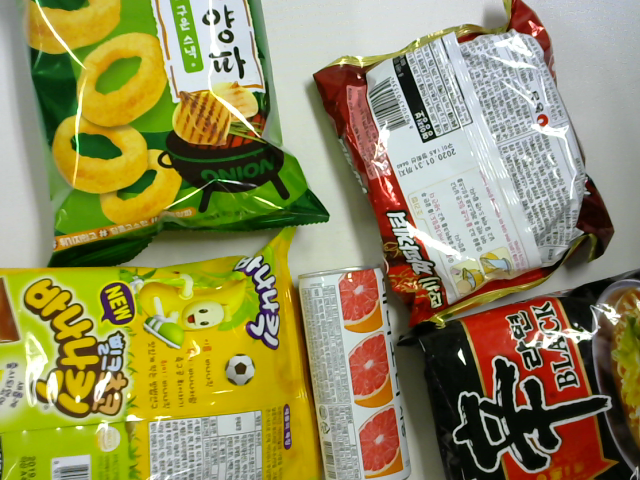Banana_Kick: (7, 238, 327, 480)
Demisoda_Grapefruit_Can_250ml: (295, 270, 432, 480)
Grilled_Onions: (15, 6, 339, 270)
Sichuan_Chapaghetti: (313, 8, 619, 318)
Sinramen_Black: (415, 264, 638, 480)
